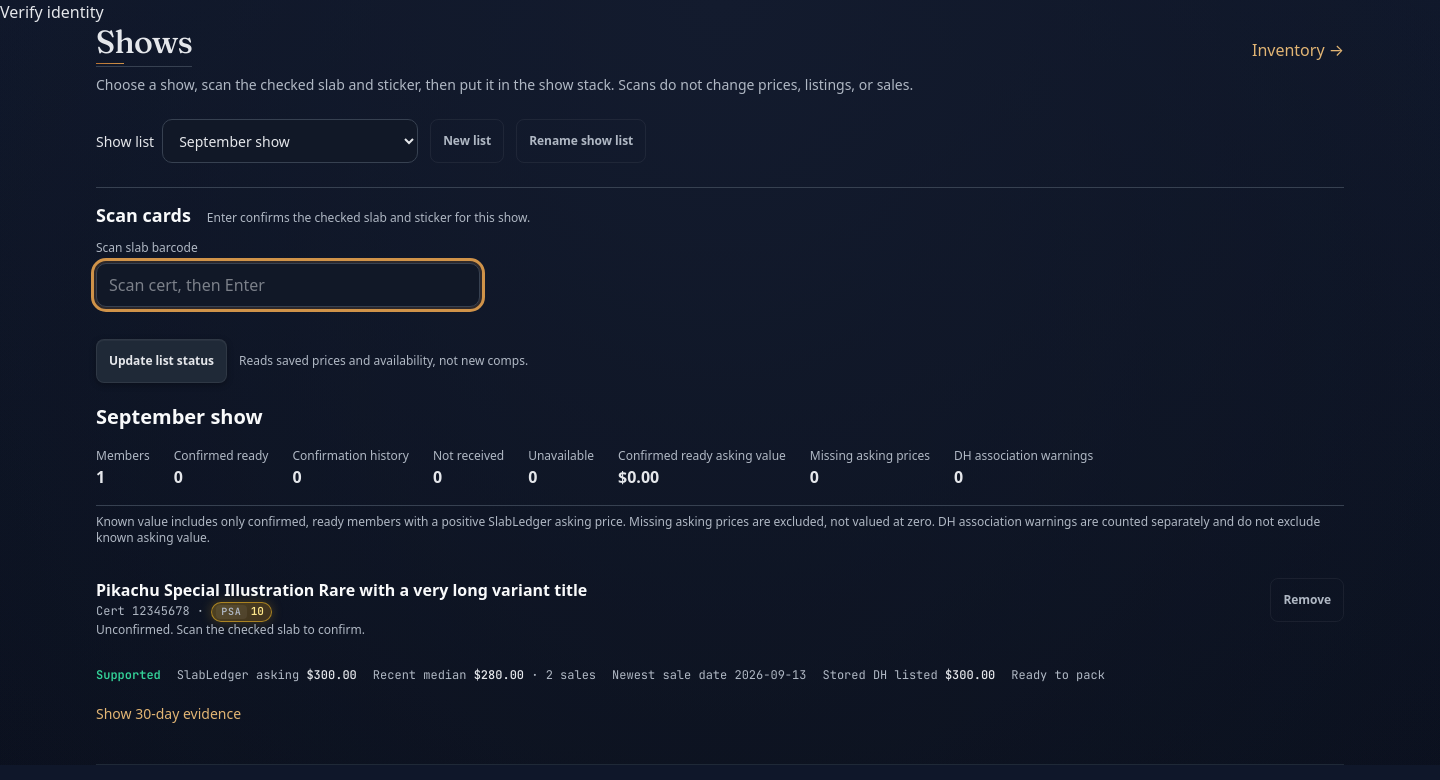
Test: settles valid negative asking confirmation as missing asking instead of retaining it for recovery
Type "12345678" into the field labelled "Scan slab barcode" at x=288, y=285, box x1=96 y1=263 x2=480 y2=307
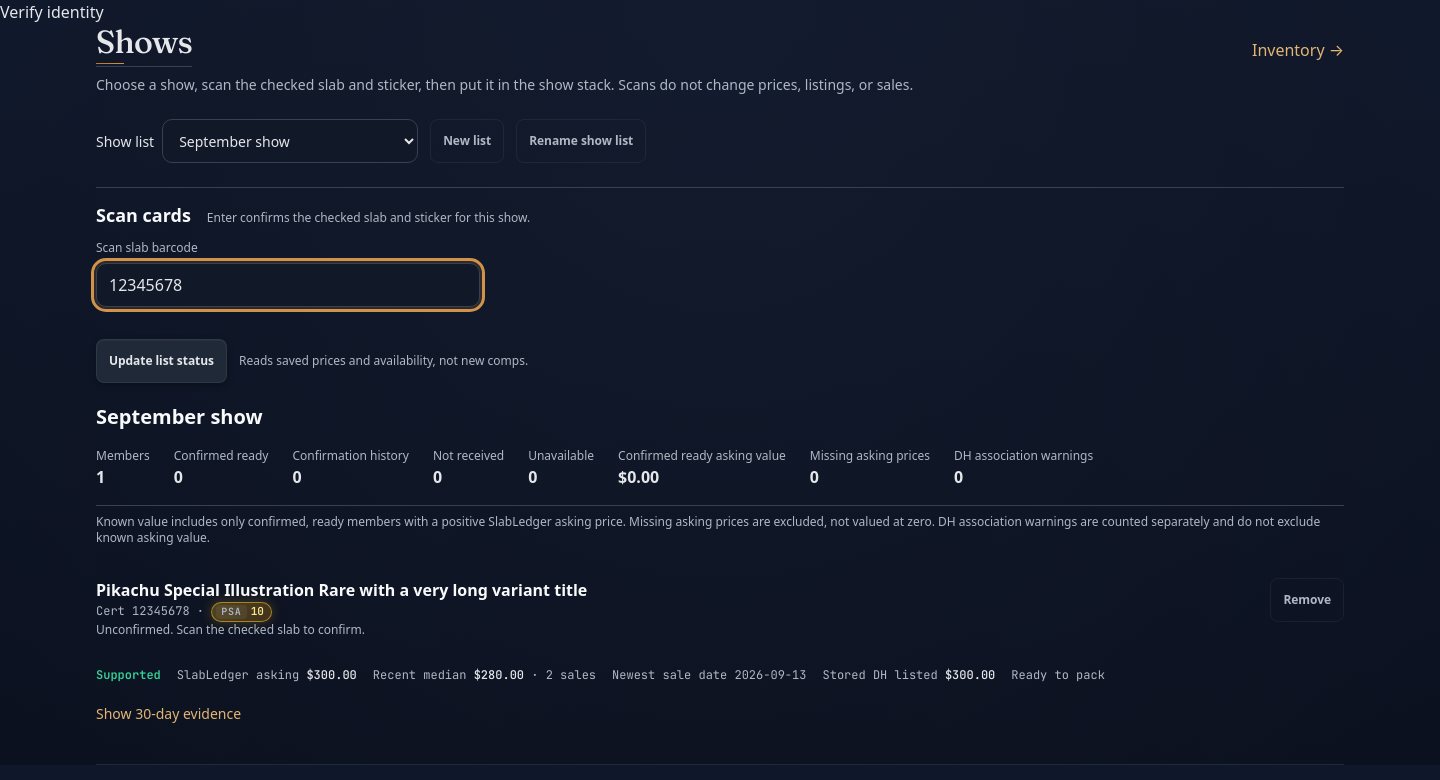
Press Enter in the field labelled "Scan slab barcode", box x1=96 y1=263 x2=480 y2=307
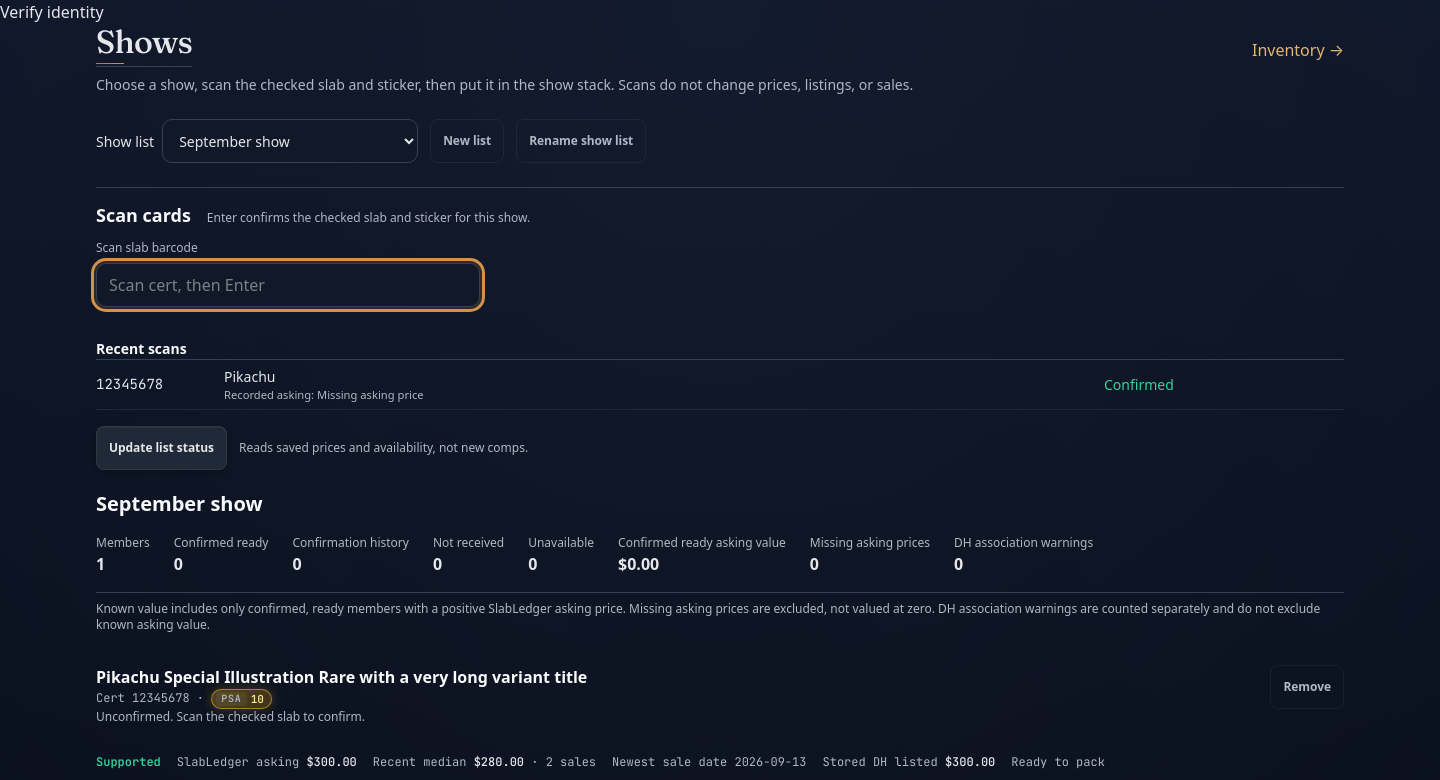
Now the text "Confirmed" is shown, box x1=1104 y1=375 x2=1174 y2=394
Now the text "Recorded asking: Missing asking price" is shown, box x1=224 y1=387 x2=424 y2=402
